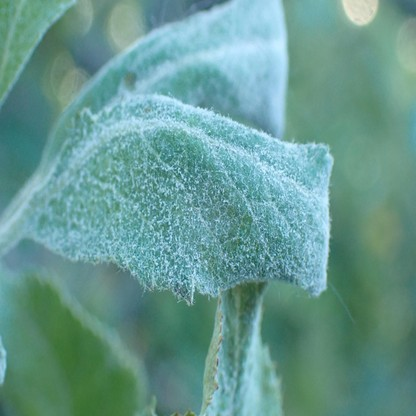powder: (24, 95, 333, 294), (43, 0, 289, 171), (199, 280, 282, 416), (0, 0, 75, 102)
